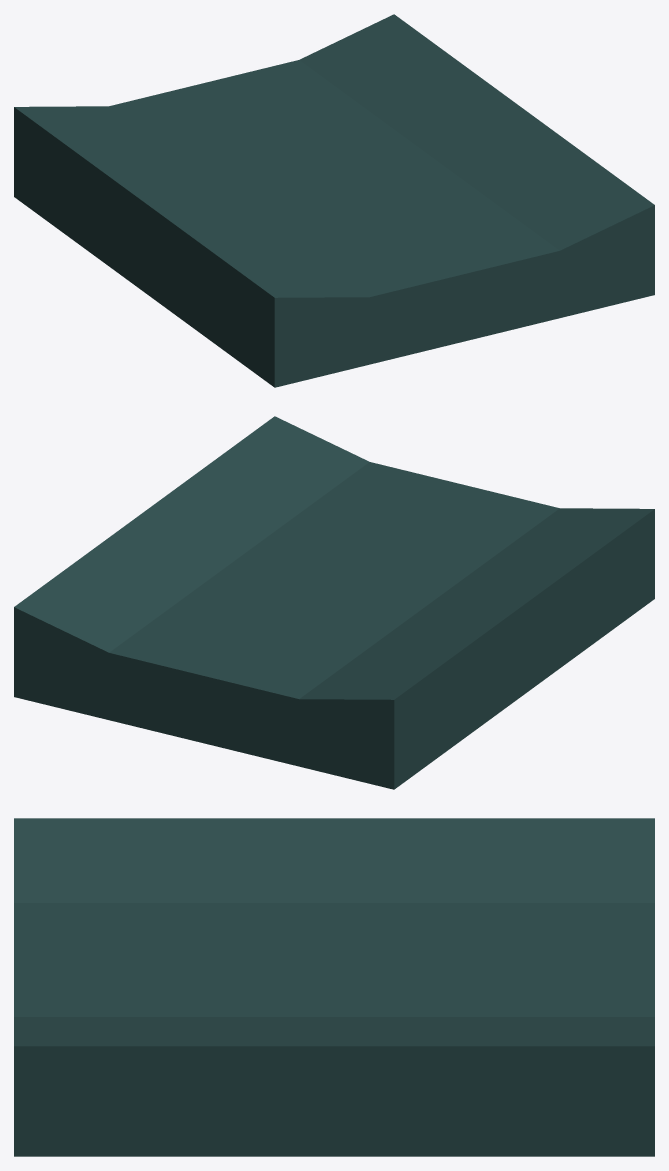
Rendered from Asian_Prop_Building_Modular_Roof_Tile_01.FBX.
The picture shows the model from 3 angles, top to bottom: view 1: azimuth 30°, elevation 25°; view 2: azimuth 150°, elevation 25°; view 3: azimuth 270°, elevation 25°; orthographic projection. The views are drawn at different scales.
Visible parts, largest first — view 1: Asian_Prop_Building_Modular_Roof_Tile_01; view 2: Asian_Prop_Building_Modular_Roof_Tile_01; view 3: Asian_Prop_Building_Modular_Roof_Tile_01.
Boxes of the visible parts, x1,y1,x2,y2 form: Asian_Prop_Building_Modular_Roof_Tile_01: (14,14,654,387); Asian_Prop_Building_Modular_Roof_Tile_01: (14,416,654,789); Asian_Prop_Building_Modular_Roof_Tile_01: (14,818,654,1156).
Bounding box in the file's own units: 694 × 157 × 825.
